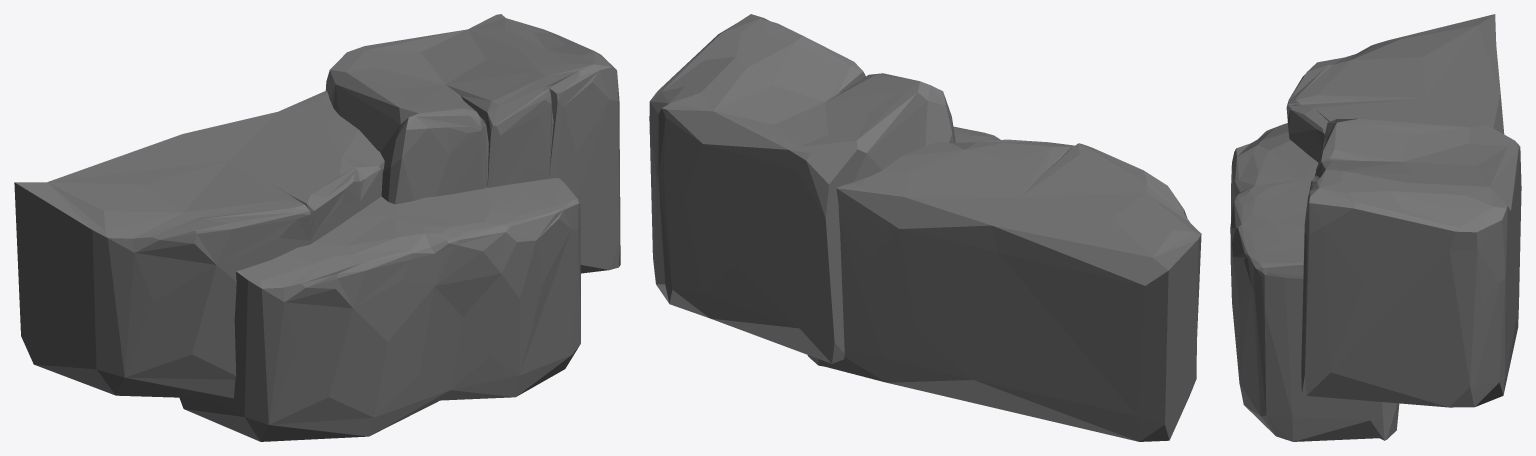
Rendered from Rock_009.glb.
The picture shows the model from 3 angles, left to right: view 1: azimuth 30°, elevation 25°; view 2: azimuth 150°, elevation 25°; view 3: azimuth 270°, elevation 25°; orthographic projection. The views are drawn at different scales.
Parts seen in each view (by area): view 1: Rock_009; view 2: Rock_009; view 3: Rock_009.
Part boxes in pixels (box(x1,y1,x2,y2)): Rock_009: box(14, 14, 620, 441); Rock_009: box(649, 14, 1201, 441); Rock_009: box(1230, 14, 1521, 441).
Bounding box in the file's own units: 8.48 × 4.31 × 4.14.
Materials: 1 (1 with a texture image).
